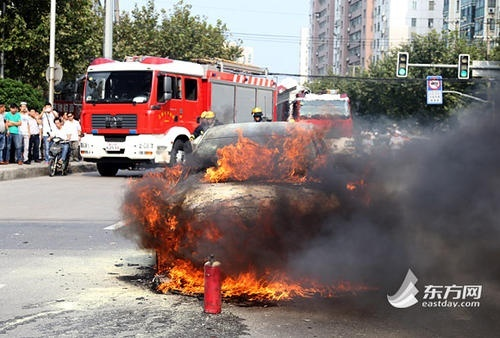fire: (202, 121, 334, 185), (224, 269, 376, 300)
